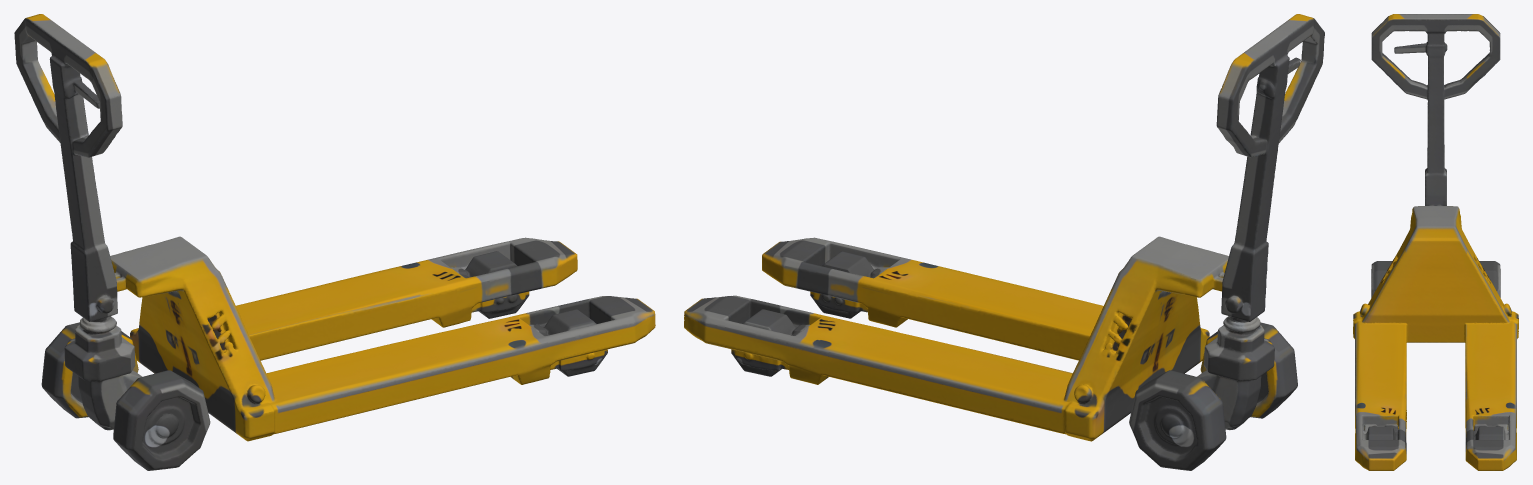
Rendered from pallet jack 3d model.glb.
3 renders of one model, left to right at view 1: azimuth 30°, elevation 25°; view 2: azimuth 150°, elevation 25°; view 3: azimuth 270°, elevation 25°, orthographic. The views are drawn at different scales.
Parts seen in each view (by area): view 1: tripo_node_8c3c9eb5-fe4c-495c-891e-cfb1b9884cb8; view 2: tripo_node_8c3c9eb5-fe4c-495c-891e-cfb1b9884cb8; view 3: tripo_node_8c3c9eb5-fe4c-495c-891e-cfb1b9884cb8.
Part boxes in pixels (x1,y1,x2,y2): tripo_node_8c3c9eb5-fe4c-495c-891e-cfb1b9884cb8: (14,14,655,470); tripo_node_8c3c9eb5-fe4c-495c-891e-cfb1b9884cb8: (684,14,1324,470); tripo_node_8c3c9eb5-fe4c-495c-891e-cfb1b9884cb8: (1353,14,1518,470).
Bounding box in the file's own units: 1 × 0.7183 × 0.3717.
1 material, 1 textured.
